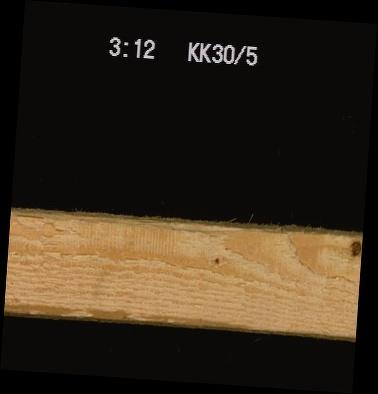dry_knot: (347, 236, 361, 257)
small_knot: (211, 253, 224, 265)
wave: (12, 210, 271, 228), (3, 307, 254, 325)
